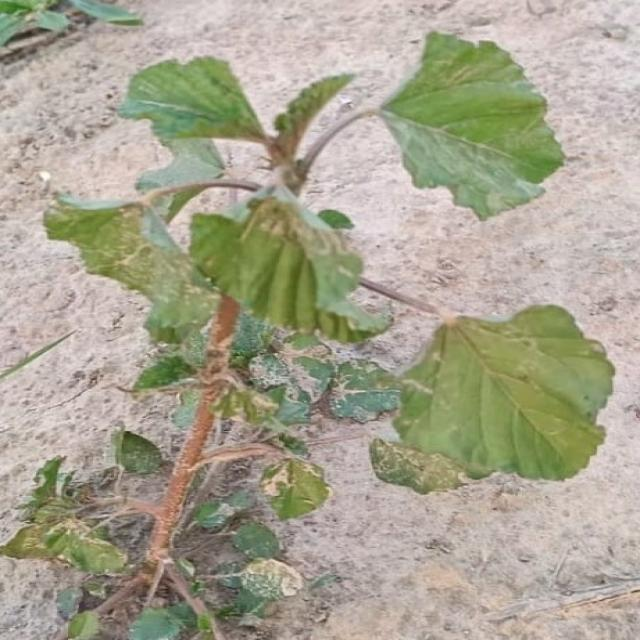weed: (1, 32, 616, 640)
